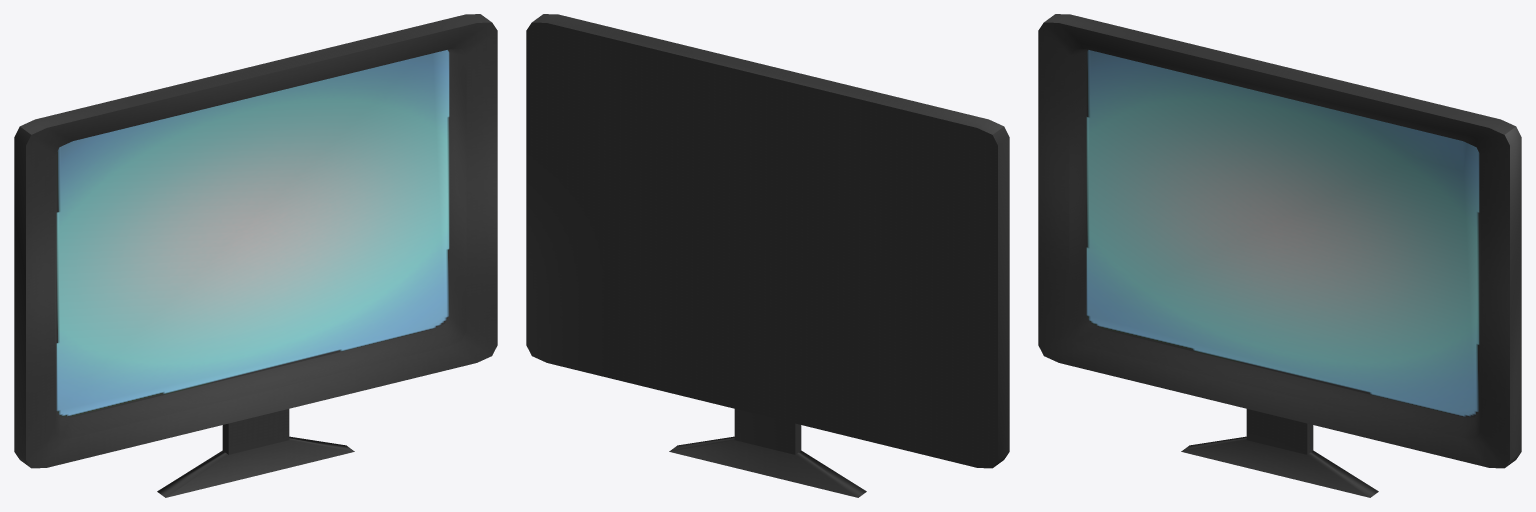
The model's file is Computer_New.fbx.
The picture shows the model from 3 angles, left to right: view 1: azimuth 30°, elevation 25°; view 2: azimuth 150°, elevation 25°; view 3: azimuth 330°, elevation 25°; orthographic projection.
Visible parts, largest first — view 1: Box005; view 2: Box005; view 3: Box005.
Boxes of the visible parts, x1,y1,x2,y2 form: Box005: [14, 14, 497, 497]; Box005: [526, 14, 1009, 497]; Box005: [1038, 14, 1521, 497].
Bounding box in the file's own units: 45.82 × 37.2 × 1.96.
